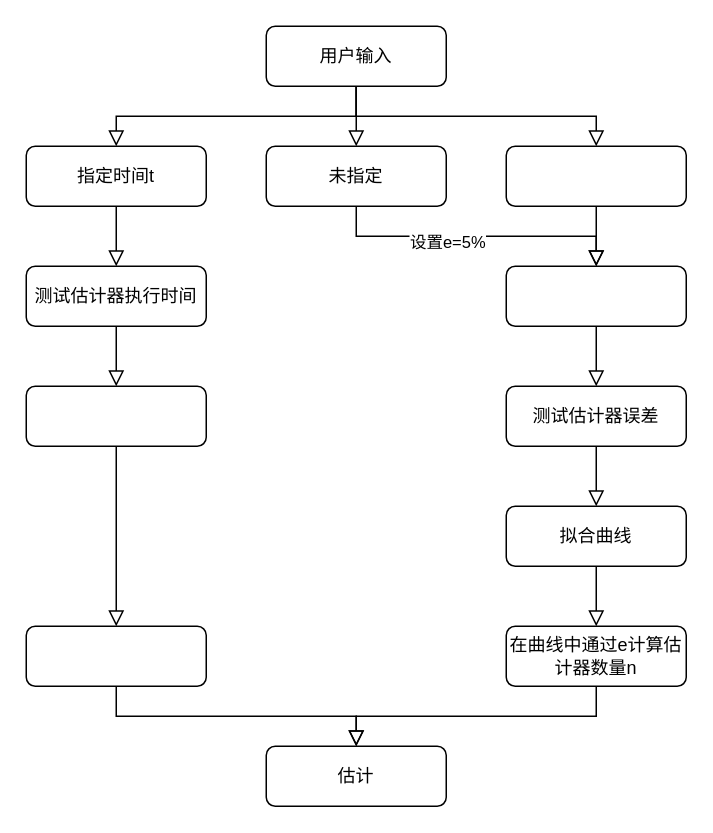
This 713x833 diagram has some shape labels left out. The box of each missing label's shape, as (x1, y1, x2, y2) in pixels:
在直线中通过t计算估计器数量n: (25, 625, 206, 686)
均匀采样获得小图: (505, 265, 686, 326)
拟合直线: (25, 385, 206, 446)
指定误差e: (505, 145, 686, 206)
